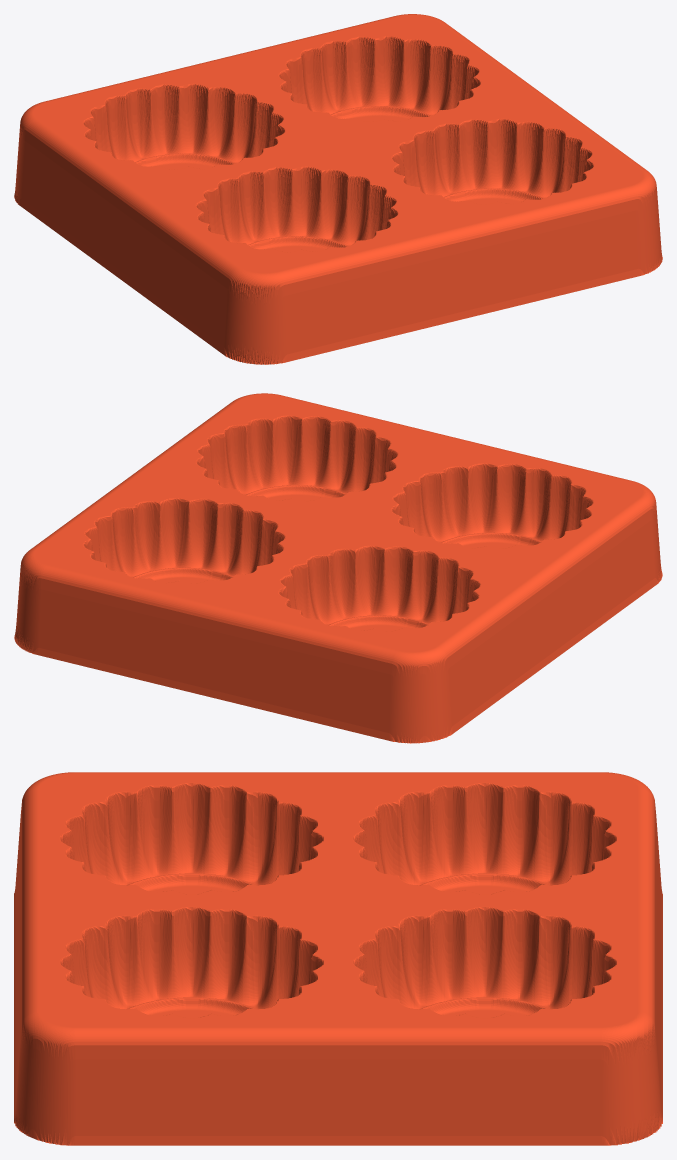
The model's file is mold.glb.
3 renders of one model, top to bottom at view 1: azimuth 30°, elevation 25°; view 2: azimuth 150°, elevation 25°; view 3: azimuth 270°, elevation 25°, orthographic. The views are drawn at different scales.
Visible parts, largest first — view 1: geometry_0; view 2: geometry_0; view 3: geometry_0.
Part boxes in pixels (x1,y1,x2,y2): geometry_0: (14, 14, 662, 364); geometry_0: (14, 393, 662, 743); geometry_0: (14, 772, 662, 1145).
Bounding box in the file's own units: 0.0952 × 0.0175 × 0.0952.
